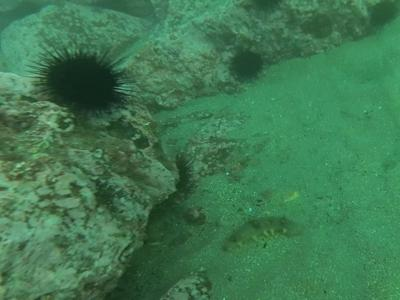holothurian: (218, 218, 289, 247)
urchin: (33, 44, 125, 113), (230, 49, 261, 83)
